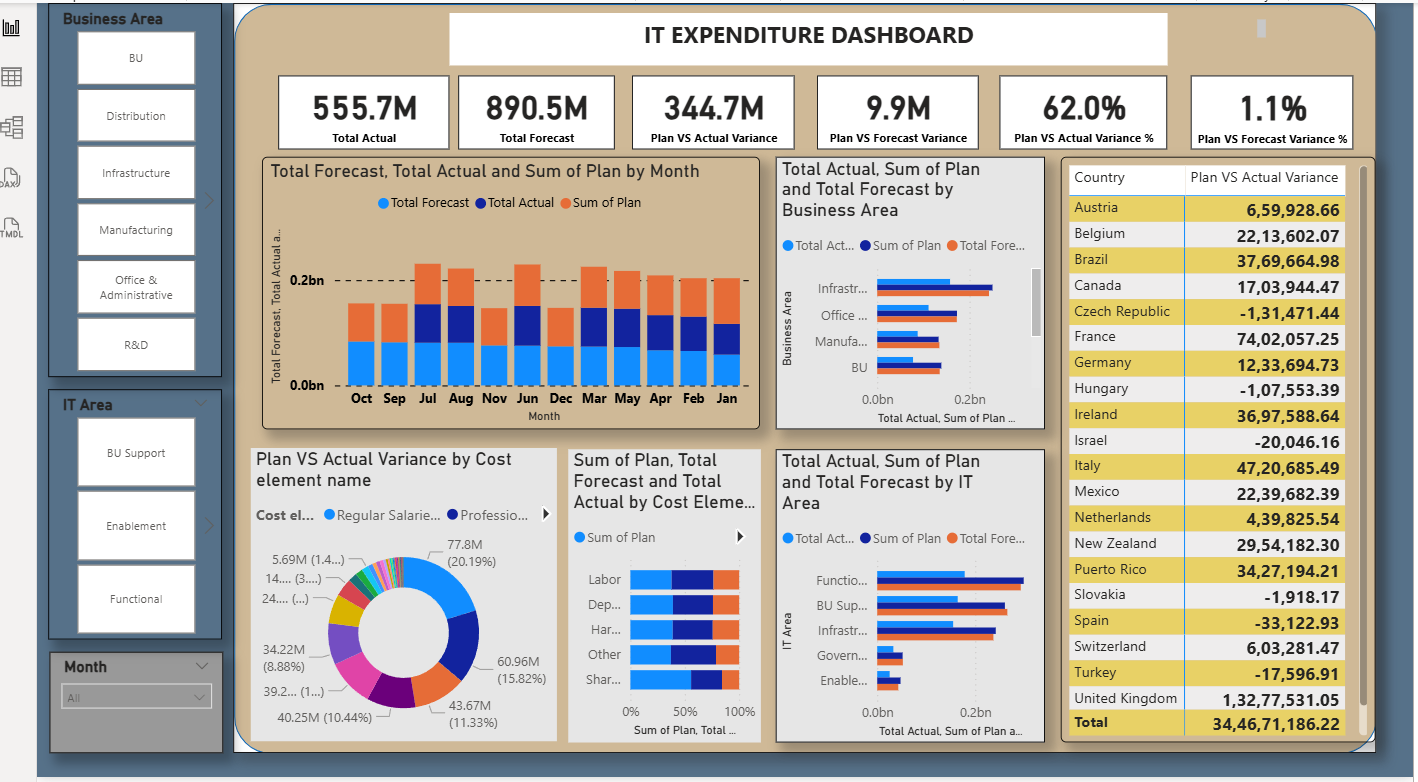

The dashboard page shown, as its layout file describes it:
{"tool":"powerbi","page":{"name":"Page 1","canvas":[1280,720],"ordinal":0},"visuals":[{"type":"shape","box":[182.1,0,1063.5,697.8],"z":0},{"type":"card","fields":{"Values":["Measure.Total Actual"]},"box":[224.8,67.2,158.8,68.4],"z":1000},{"type":"card","fields":{"Values":["Measure.Total Forecast"]},"box":[392.2,67.2,145.4,68.4],"z":2000},{"type":"card","fields":{"Values":["Measure.Plan VS Actual Variance"]},"box":[553.5,67.2,151.5,68.4],"z":3000},{"type":"card","fields":{"Values":["Measure.Plan VS Actual Variance %"]},"box":[895.6,67.2,156.4,68.4],"z":4000},{"type":"card","fields":{"Values":["Measure.Plan VS Forecast Variance"]},"box":[725.8,67.2,150.3,68.4],"z":5000},{"type":"card","fields":{"Values":["Measure.Plan VS Forecast Variance %"]},"box":[1072.8,67.2,151.5,68.4],"z":6000},{"type":"pivotTable","fields":{"Rows":["Data.Country"],"Values":["Measure.Plan VS Actual Variance"]},"box":[952.8,142.8,292.8,544.9],"z":7000},{"type":"columnChart","fields":{"Category":["Data.Month"],"Y":["Measure.Total Forecast","Measure.Total Actual","Sum(Data.Plan)"]},"box":[209.8,142.8,463.3,253.5],"z":8000},{"type":"donutChart","fields":{"Y":["Measure.Plan VS Actual Variance"],"Category":["Data.Cost element name"]},"box":[199.2,414.2,284.7,272.5],"z":9000},{"type":"hundredPercentStackedBarChart","fields":{"Y":["Sum(Data.Plan)","Measure.Total Forecast","Measure.Total Actual"],"Category":["Data.Cost Element Group"]},"box":[493.9,415.2,179.2,272.4],"z":10000},{"type":"clusteredBarChart","fields":{"Y":["Measure.Total Actual","Sum(Data.Plan)","Measure.Total Forecast"],"Category":["Data.Business Area"]},"box":[687.6,142.8,250.6,253.5],"z":11000},{"type":"clusteredBarChart","fields":{"Y":["Measure.Total Actual","Sum(Data.Plan)","Measure.Total Forecast"],"Category":["Data.IT Area"]},"box":[687.6,415.2,250.6,272.4],"z":12000},{"type":"slicer","fields":{"Values":["Data.Business Area"]},"box":[10.2,0,161.7,348.2],"z":13000},{"type":"slicer","fields":{"Values":["Data.Month"]},"box":[11.7,603.1,161.7,94.7],"z":14000},{"type":"textbox","box":[327.8,10.2,820.2,33.5],"z":15000},{"type":"textbox","box":[383.7,9.8,668.4,48.9],"z":16000},{"type":"slicer","fields":{"Values":["Data.IT Area"]},"box":[10.2,359.8,161.7,233.1],"z":17000}]}

Visuals, with their boxes in screenshot pixels (x1, y1, x2, y2):
shape: 228 0 1369 745
card - Measure.Total Actual: 274 68 445 142
card - Measure.Total Forecast: 454 68 610 142
card - Measure.Plan VS Actual Variance: 627 68 789 142
card - Measure.Plan VS Actual Variance %: 994 68 1161 142
card - Measure.Plan VS Forecast Variance: 811 68 973 142
card - Measure.Plan VS Forecast Variance %: 1184 68 1346 142
pivotTable - Data.Country x Measure.Plan VS Actual Variance: 1055 149 1369 734
columnChart - Data.Month x Measure.Total Forecast: 258 149 755 421
donutChart - Measure.Plan VS Actual Variance x Data.Cost element name: 247 440 552 733
hundredPercentStackedBarChart - Sum(Data.Plan) x Measure.Total Forecast: 563 442 755 734
clusteredBarChart - Measure.Total Actual x Sum(Data.Plan): 771 149 1039 421
clusteredBarChart - Measure.Total Actual x Sum(Data.Plan): 771 442 1039 734
slicer - Data.Business Area: 44 0 218 370
slicer - Data.Month: 46 643 219 745
textbox: 385 7 1264 43
textbox: 445 7 1161 59
slicer - Data.IT Area: 44 382 218 632
